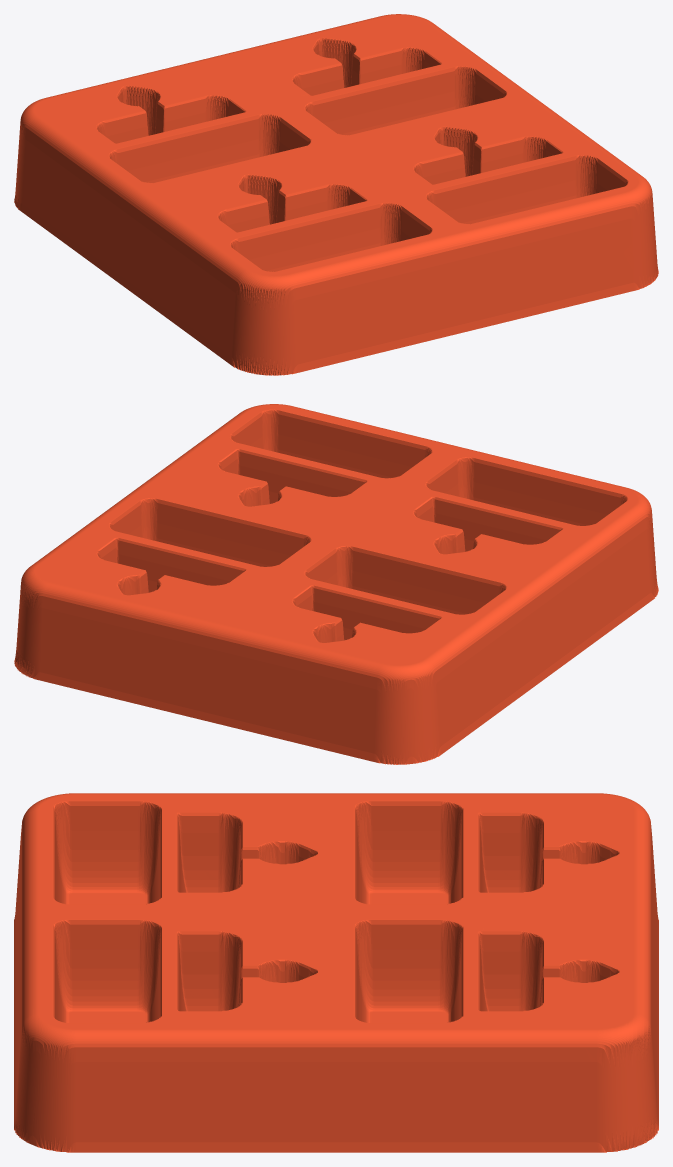
Rendered from mold.glb.
The picture shows the model from 3 angles, top to bottom: view 1: azimuth 30°, elevation 25°; view 2: azimuth 150°, elevation 25°; view 3: azimuth 270°, elevation 25°; orthographic projection. The views are drawn at different scales.
Parts seen in each view (by area): view 1: geometry_0; view 2: geometry_0; view 3: geometry_0.
Boxes of the visible parts, x1,y1,x2,y2 form: geometry_0: (14,14,658,375); geometry_0: (14,404,658,764); geometry_0: (14,793,658,1152).
Size of the model in its own units: 0.0882 by 0.0182 by 0.0942.
